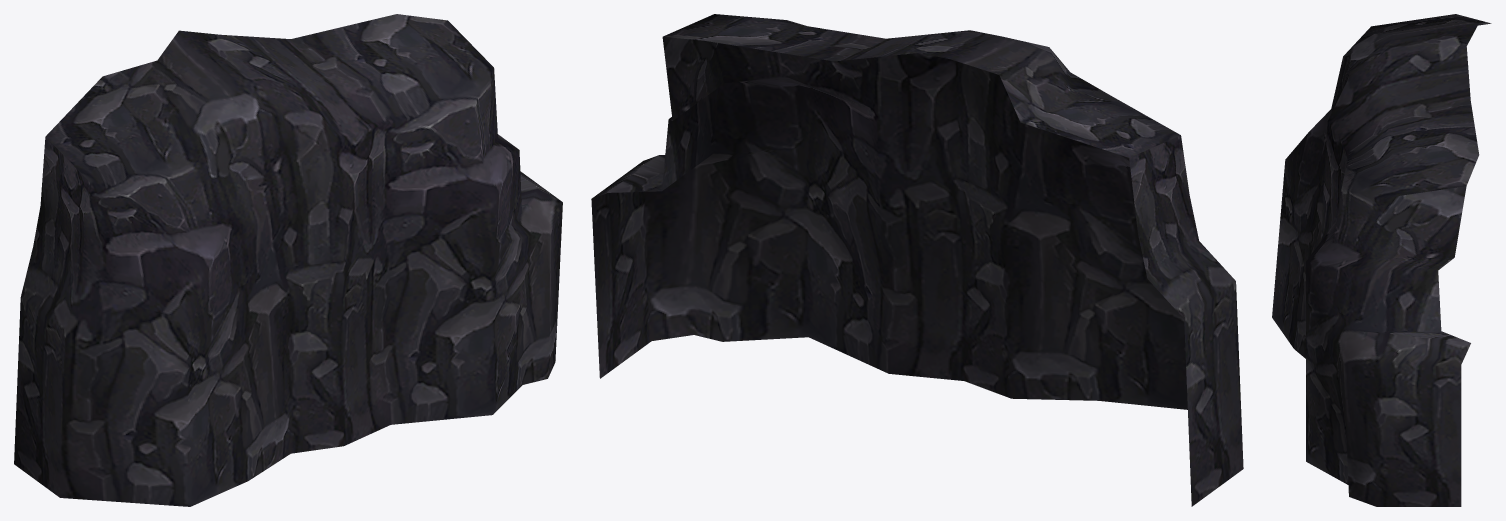
The model's file is Treasure_Wall_02.FBX.
3 renders of one model, left to right at view 1: azimuth 30°, elevation 25°; view 2: azimuth 150°, elevation 25°; view 3: azimuth 270°, elevation 25°, orthographic. The views are drawn at different scales.
Parts seen in each view (by area): view 1: Treasure_Wall_02; view 2: Treasure_Wall_02; view 3: Treasure_Wall_02.
Part boxes in pixels (bbox=[...]): Treasure_Wall_02: bbox=[14, 14, 562, 506]; Treasure_Wall_02: bbox=[591, 14, 1243, 506]; Treasure_Wall_02: bbox=[1272, 14, 1491, 506].
Bounding box in the file's own units: 29.94 × 20.4 × 11.97.
